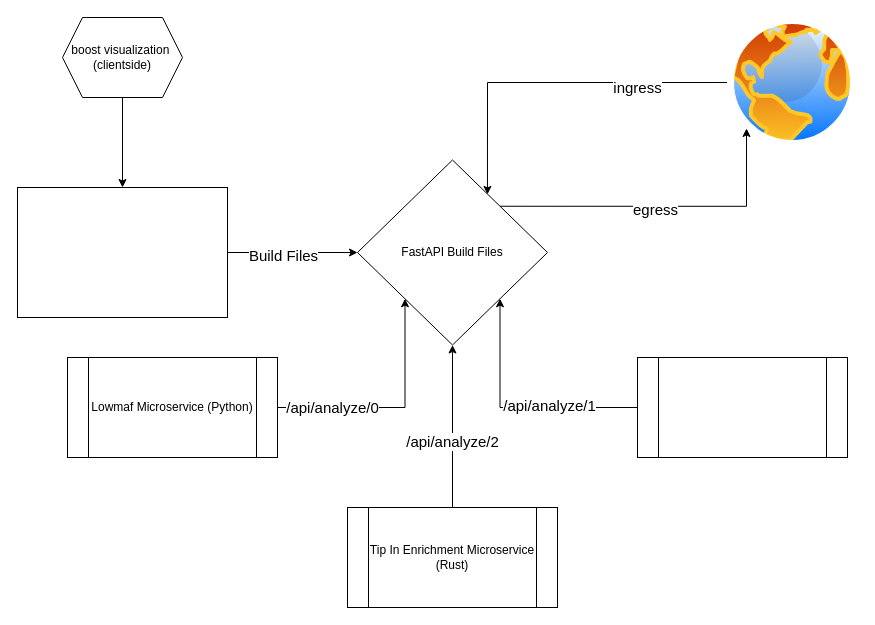
This 875x625 diagram has some shape labels left out. Here are the shapes that lost their labels. From the top down, the box of each, then its label:
(16, 186, 228, 318): Frontend (Vue)
(636, 356, 848, 458): Topmaf Microservice (Python)
